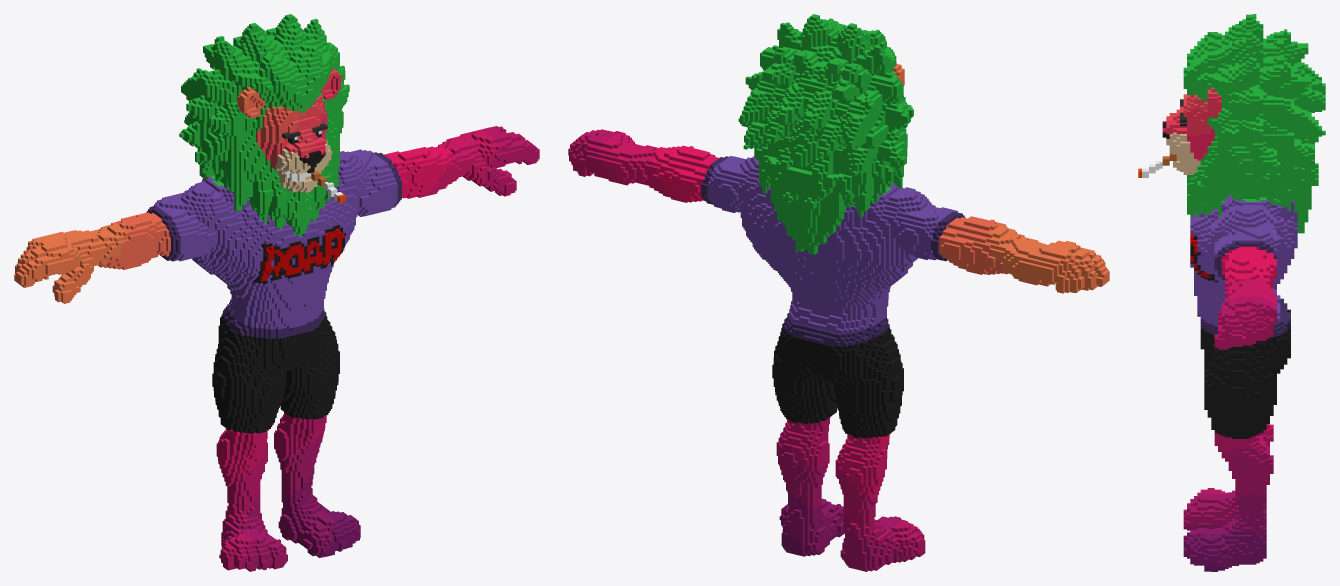
Rendered from 615-BKRuTWvV.glb.
3 views of the same model, side by side, from view 1: azimuth 30°, elevation 25°; view 2: azimuth 150°, elevation 25°; view 3: azimuth 270°, elevation 25° (orthographic). The views are drawn at different scales.
Visible parts, largest first — view 1: cigarette; view 2: cigarette; view 3: cigarette.
Boxes of the visible parts, left/top/right/bottom form: cigarette: left=14, top=14, right=539, bottom=571; cigarette: left=568, top=14, right=1109, bottom=571; cigarette: left=1138, top=14, right=1325, bottom=571.
Size of the model in its own units: 17.2 by 16.5 by 5.4.
Materials: 5 (5 with a texture image).
